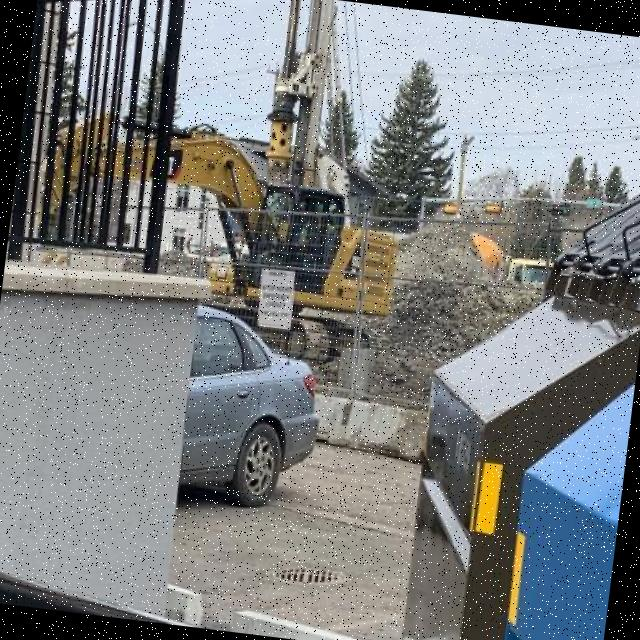Excavator: (31, 106, 417, 359)
